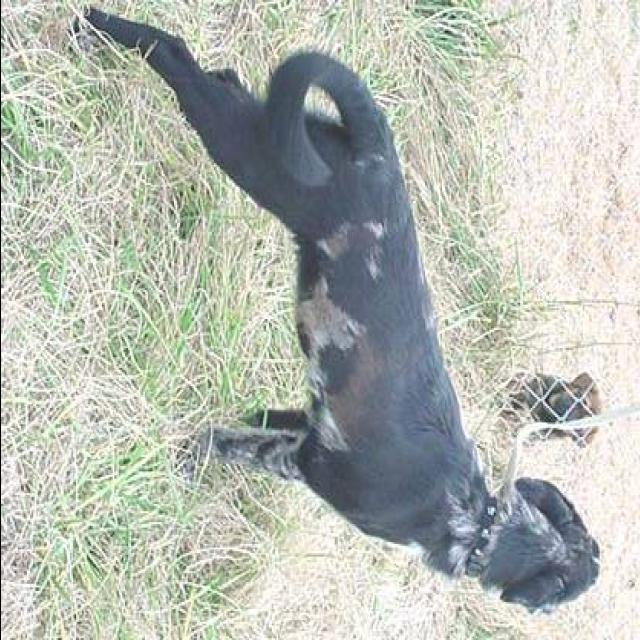dog: (71, 0, 610, 640)
